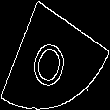O_NE: (31, 22, 79, 88)
